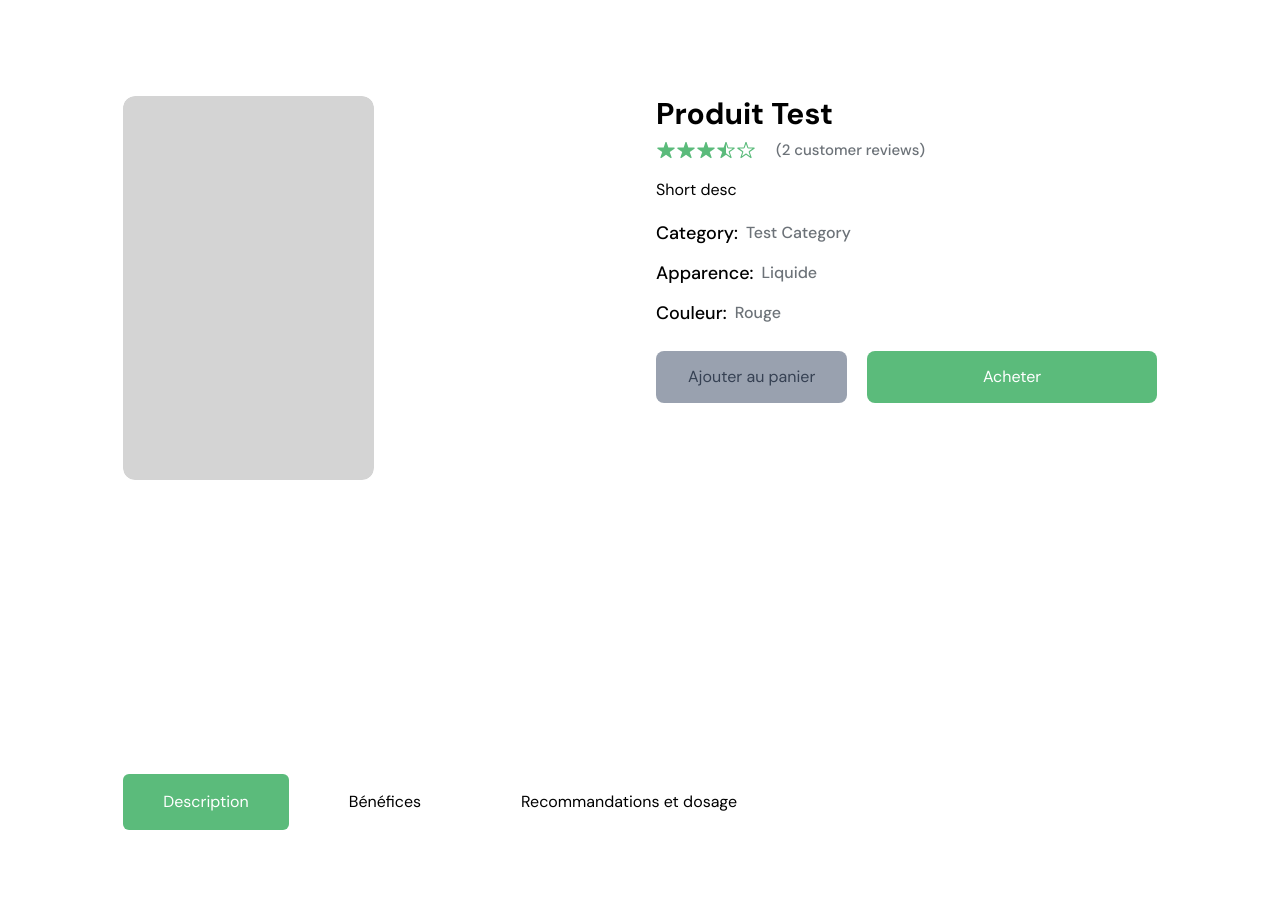
Test: Product component › change l'onglet Bénéfices
Click the button "Bénéfices" at (385, 802), box x1=309 y1=774 x2=461 y2=830
(page scrolled)
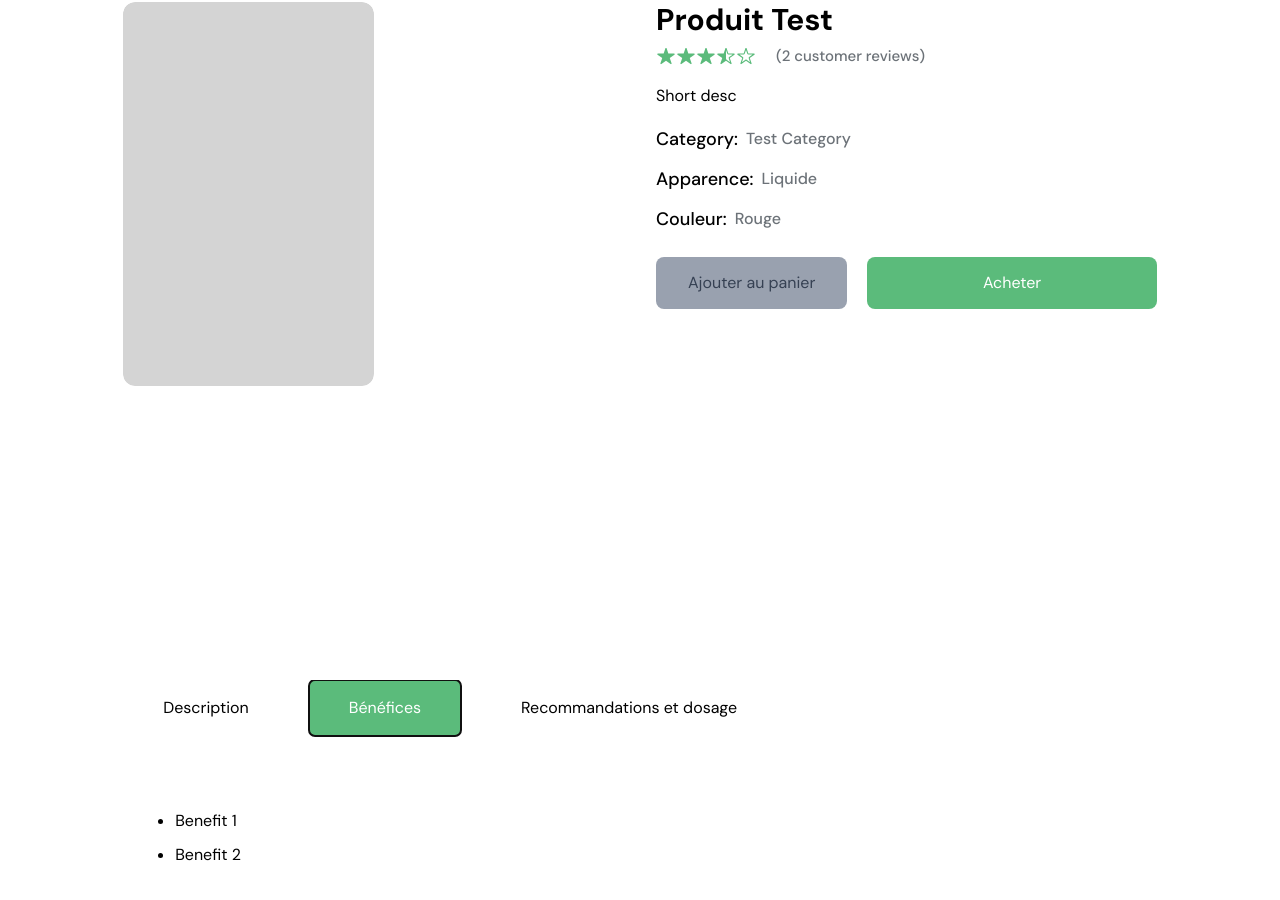
Now the list item "Benefit 1" is shown, box x1=175 y1=810 x2=237 y2=831
Now the list item "Benefit 2" is shown, box x1=175 y1=844 x2=241 y2=865
